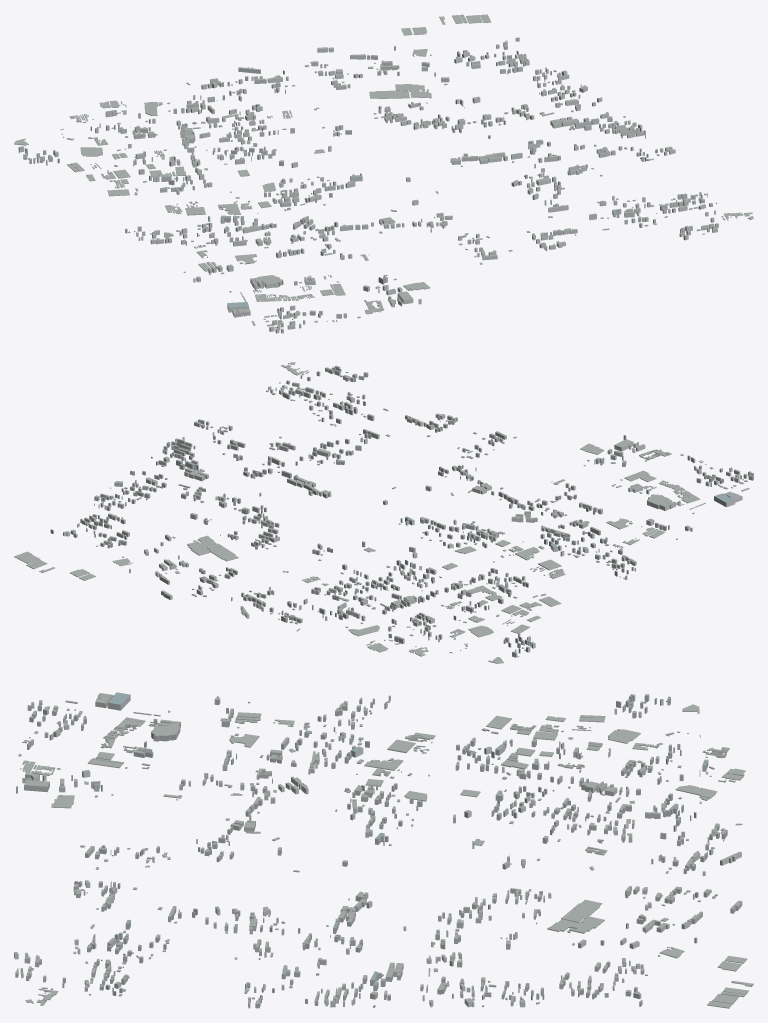
Rendered from far.glb.
3 renders of one model, top to bottom at view 1: azimuth 30°, elevation 25°; view 2: azimuth 150°, elevation 25°; view 3: azimuth 270°, elevation 25°, orthographic. The views are drawn at different scales.
Bounding box in the file's own units: 2121 × 20.4 × 2131.
